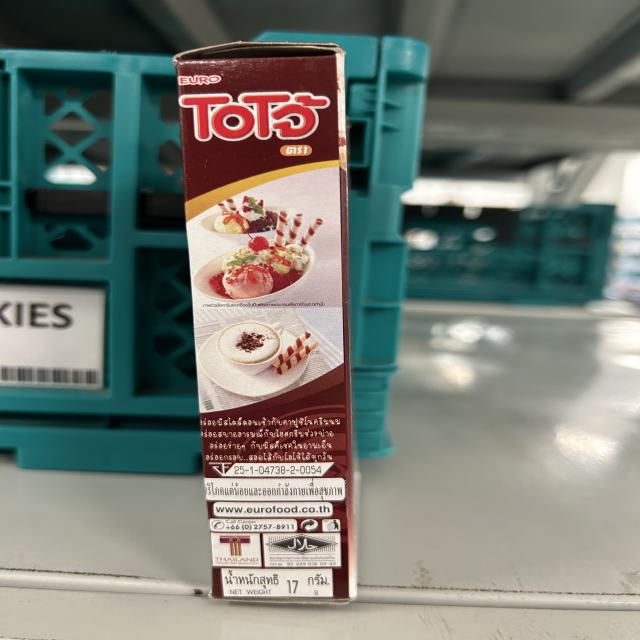object_name: (186, 53, 349, 598)
